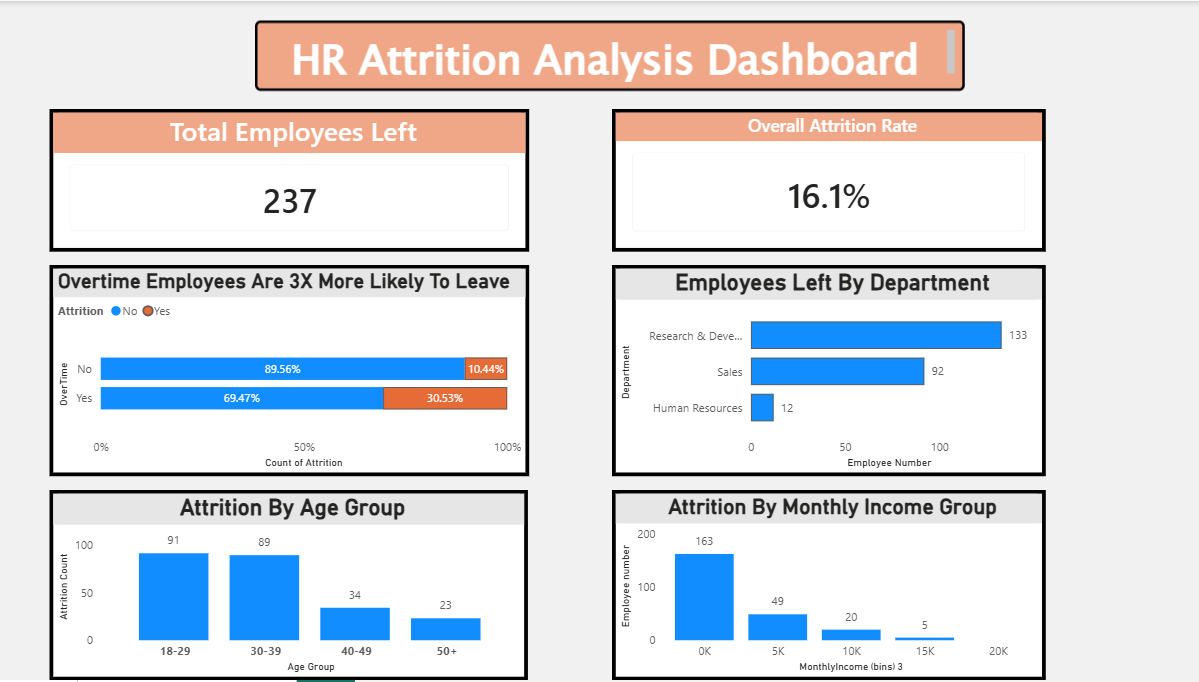

The dashboard page shown, as its layout file describes it:
{"tool":"powerbi","page":{"name":"Executive summary","canvas":[1280,720],"ordinal":1},"visuals":[{"type":"cardVisual","title":"Total Employees Left","fields":{"Data":["WA_Fn-UseC_-HR-Employee-Attrition.Count of Attrition for Yes"]},"box":[55.7,114.5,509,151.1],"z":0},{"type":"cardVisual","title":"Overall Attrition Rate ","fields":{"Data":["WA_Fn-UseC_-HR-Employee-Attrition.Attrition Rate %"]},"box":[652.2,114.5,459.7,151.1],"z":1000},{"type":"hundredPercentStackedBarChart","title":"Overtime Employees Are 3X  More Likely To Leave ","fields":{"Category":["WA_Fn-UseC_-HR-Employee-Attrition.OverTime"],"Y":["CountNonNull(WA_Fn-UseC_-HR-Employee-Attrition.Attrition)"],"Series":["WA_Fn-UseC_-HR-Employee-Attrition.Attrition"]},"box":[55.7,279.9,509,224.3],"z":2000},{"type":"clusteredBarChart","title":" Employees Left  By Department","fields":{"Category":["WA_Fn-UseC_-HR-Employee-Attrition.Department"],"Y":["CountNonNull(WA_Fn-UseC_-HR-Employee-Attrition.EmployeeNumber)"]},"box":[652.2,279.9,459.7,224.3],"z":3000},{"type":"clusteredColumnChart","title":"Attrition By Age Group","fields":{"Category":["WA_Fn-UseC_-HR-Employee-Attrition.Age Group"],"Y":["CountNonNull(WA_Fn-UseC_-HR-Employee-Attrition.EmployeeNumber)"]},"box":[55.7,518.5,507.4,202],"z":4000},{"type":"clusteredColumnChart","title":"Attrition By Monthly Income Group","fields":{"Category":["WA_Fn-UseC_-HR-Employee-Attrition.MonthlyIncome (bins) 3"],"Y":["CountNonNull(WA_Fn-UseC_-HR-Employee-Attrition.EmployeeNumber)"]},"box":[652.2,518.5,459.7,202],"z":5000},{"type":"textbox","box":[273.6,20.7,752.4,74.8],"z":6000}]}

Visuals, with their boxes in screenshot pixels (x1, y1, x2, y2), scaled from the page's 1280x720 canvas onto the 1199x682 screenshot:
"Total Employees Left" cardVisual: pyautogui.locateOnScreen(52, 108, 529, 252)
"Overall Attrition Rate " cardVisual: pyautogui.locateOnScreen(611, 108, 1042, 252)
"Overtime Employees Are 3X  More Likely To Leave " hundredPercentStackedBarChart: pyautogui.locateOnScreen(52, 265, 529, 478)
" Employees Left  By Department" clusteredBarChart: pyautogui.locateOnScreen(611, 265, 1042, 478)
"Attrition By Age Group" clusteredColumnChart: pyautogui.locateOnScreen(52, 491, 527, 681)
"Attrition By Monthly Income Group" clusteredColumnChart: pyautogui.locateOnScreen(611, 491, 1042, 681)
textbox: pyautogui.locateOnScreen(256, 20, 961, 90)
